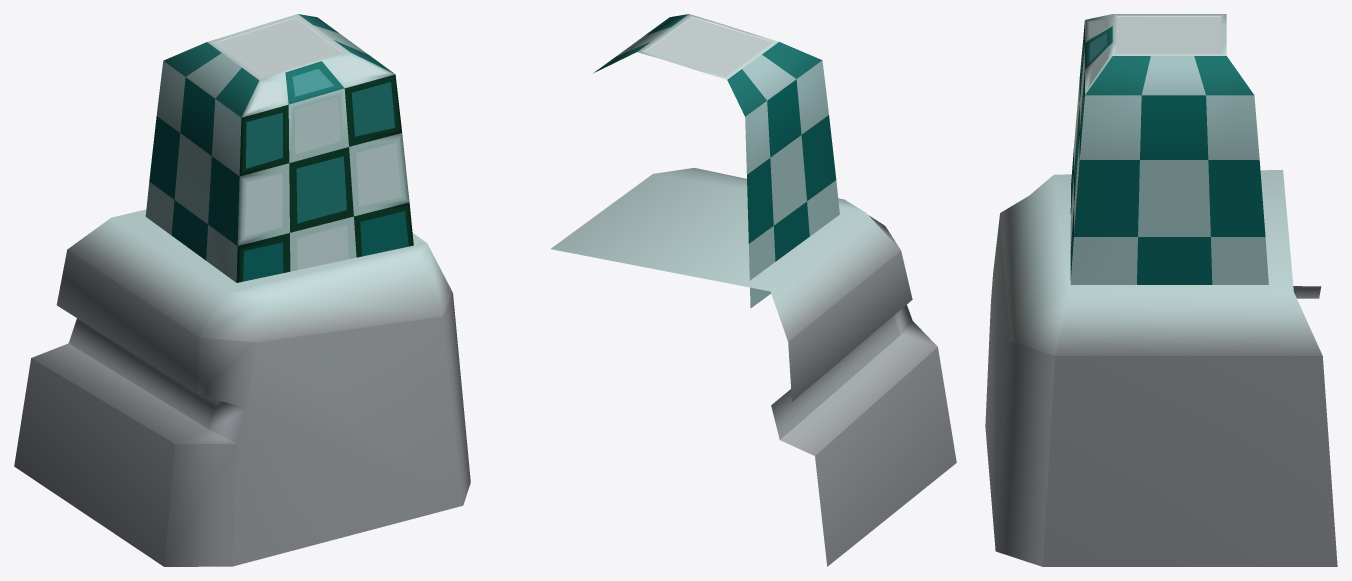
Rendered from RaceMarkerA.glb.
3 views of the same model, side by side, from view 1: azimuth 30°, elevation 25°; view 2: azimuth 150°, elevation 25°; view 3: azimuth 270°, elevation 25° (orthographic). The views are drawn at different scales.
Visible parts, largest first — view 1: RaceMarkerA; view 2: RaceMarkerA; view 3: RaceMarkerA.
Part boxes in pixels (<box>): RaceMarkerA: <box>14,14,470,566</box>; RaceMarkerA: <box>551,14,956,566</box>; RaceMarkerA: <box>985,14,1337,566</box>.
Size of the model in its own units: 0.6814 by 0.8549 by 0.5876.
